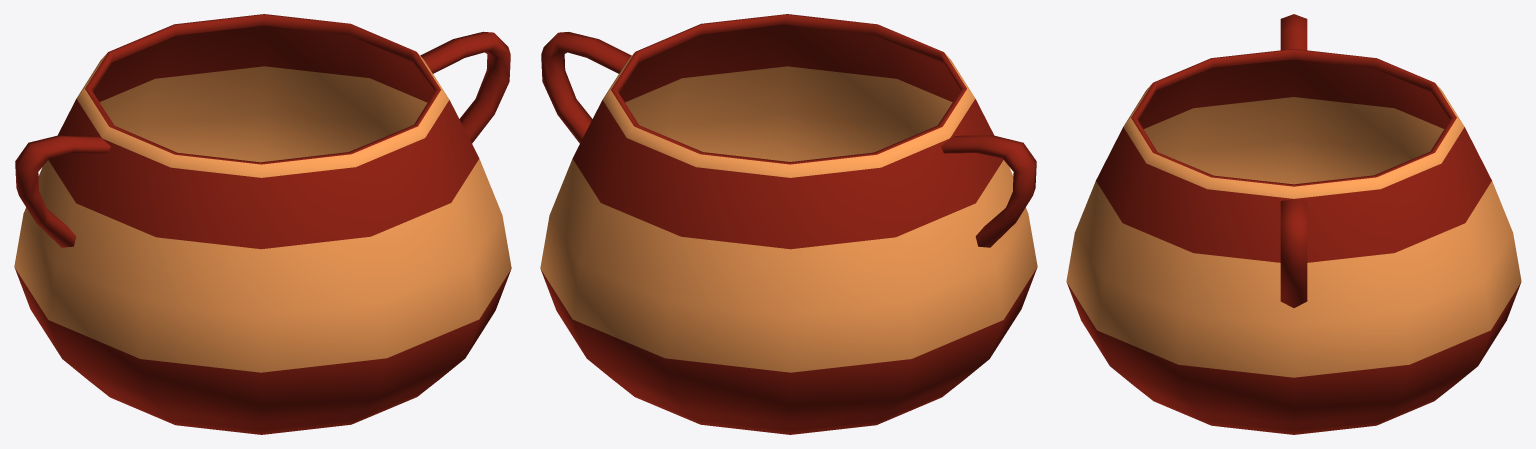
Rendered from vasomedieval.FBX.
3 views of the same model, side by side, from view 1: azimuth 30°, elevation 25°; view 2: azimuth 150°, elevation 25°; view 3: azimuth 270°, elevation 25° (orthographic). The views are drawn at different scales.
Parts seen in each view (by area): view 1: Teapot001; view 2: Teapot001; view 3: Teapot001.
Boxes of the visible parts, x1,y1,x2,y2 form: Teapot001: (14, 14, 511, 434); Teapot001: (540, 14, 1037, 434); Teapot001: (1066, 14, 1521, 434).
Size of the model in its own units: 169 by 92.48 by 148.
